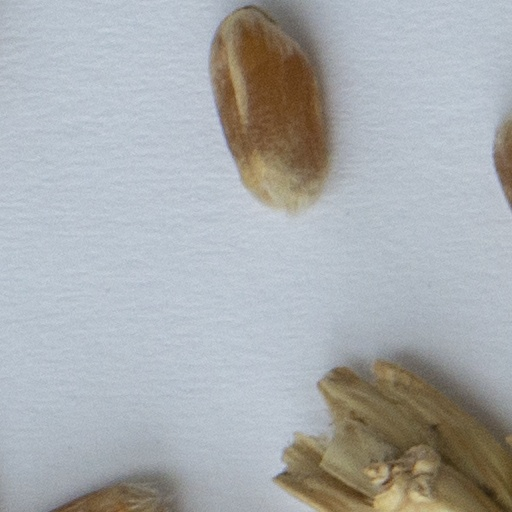Peel-poly: (276, 359, 511, 511)
